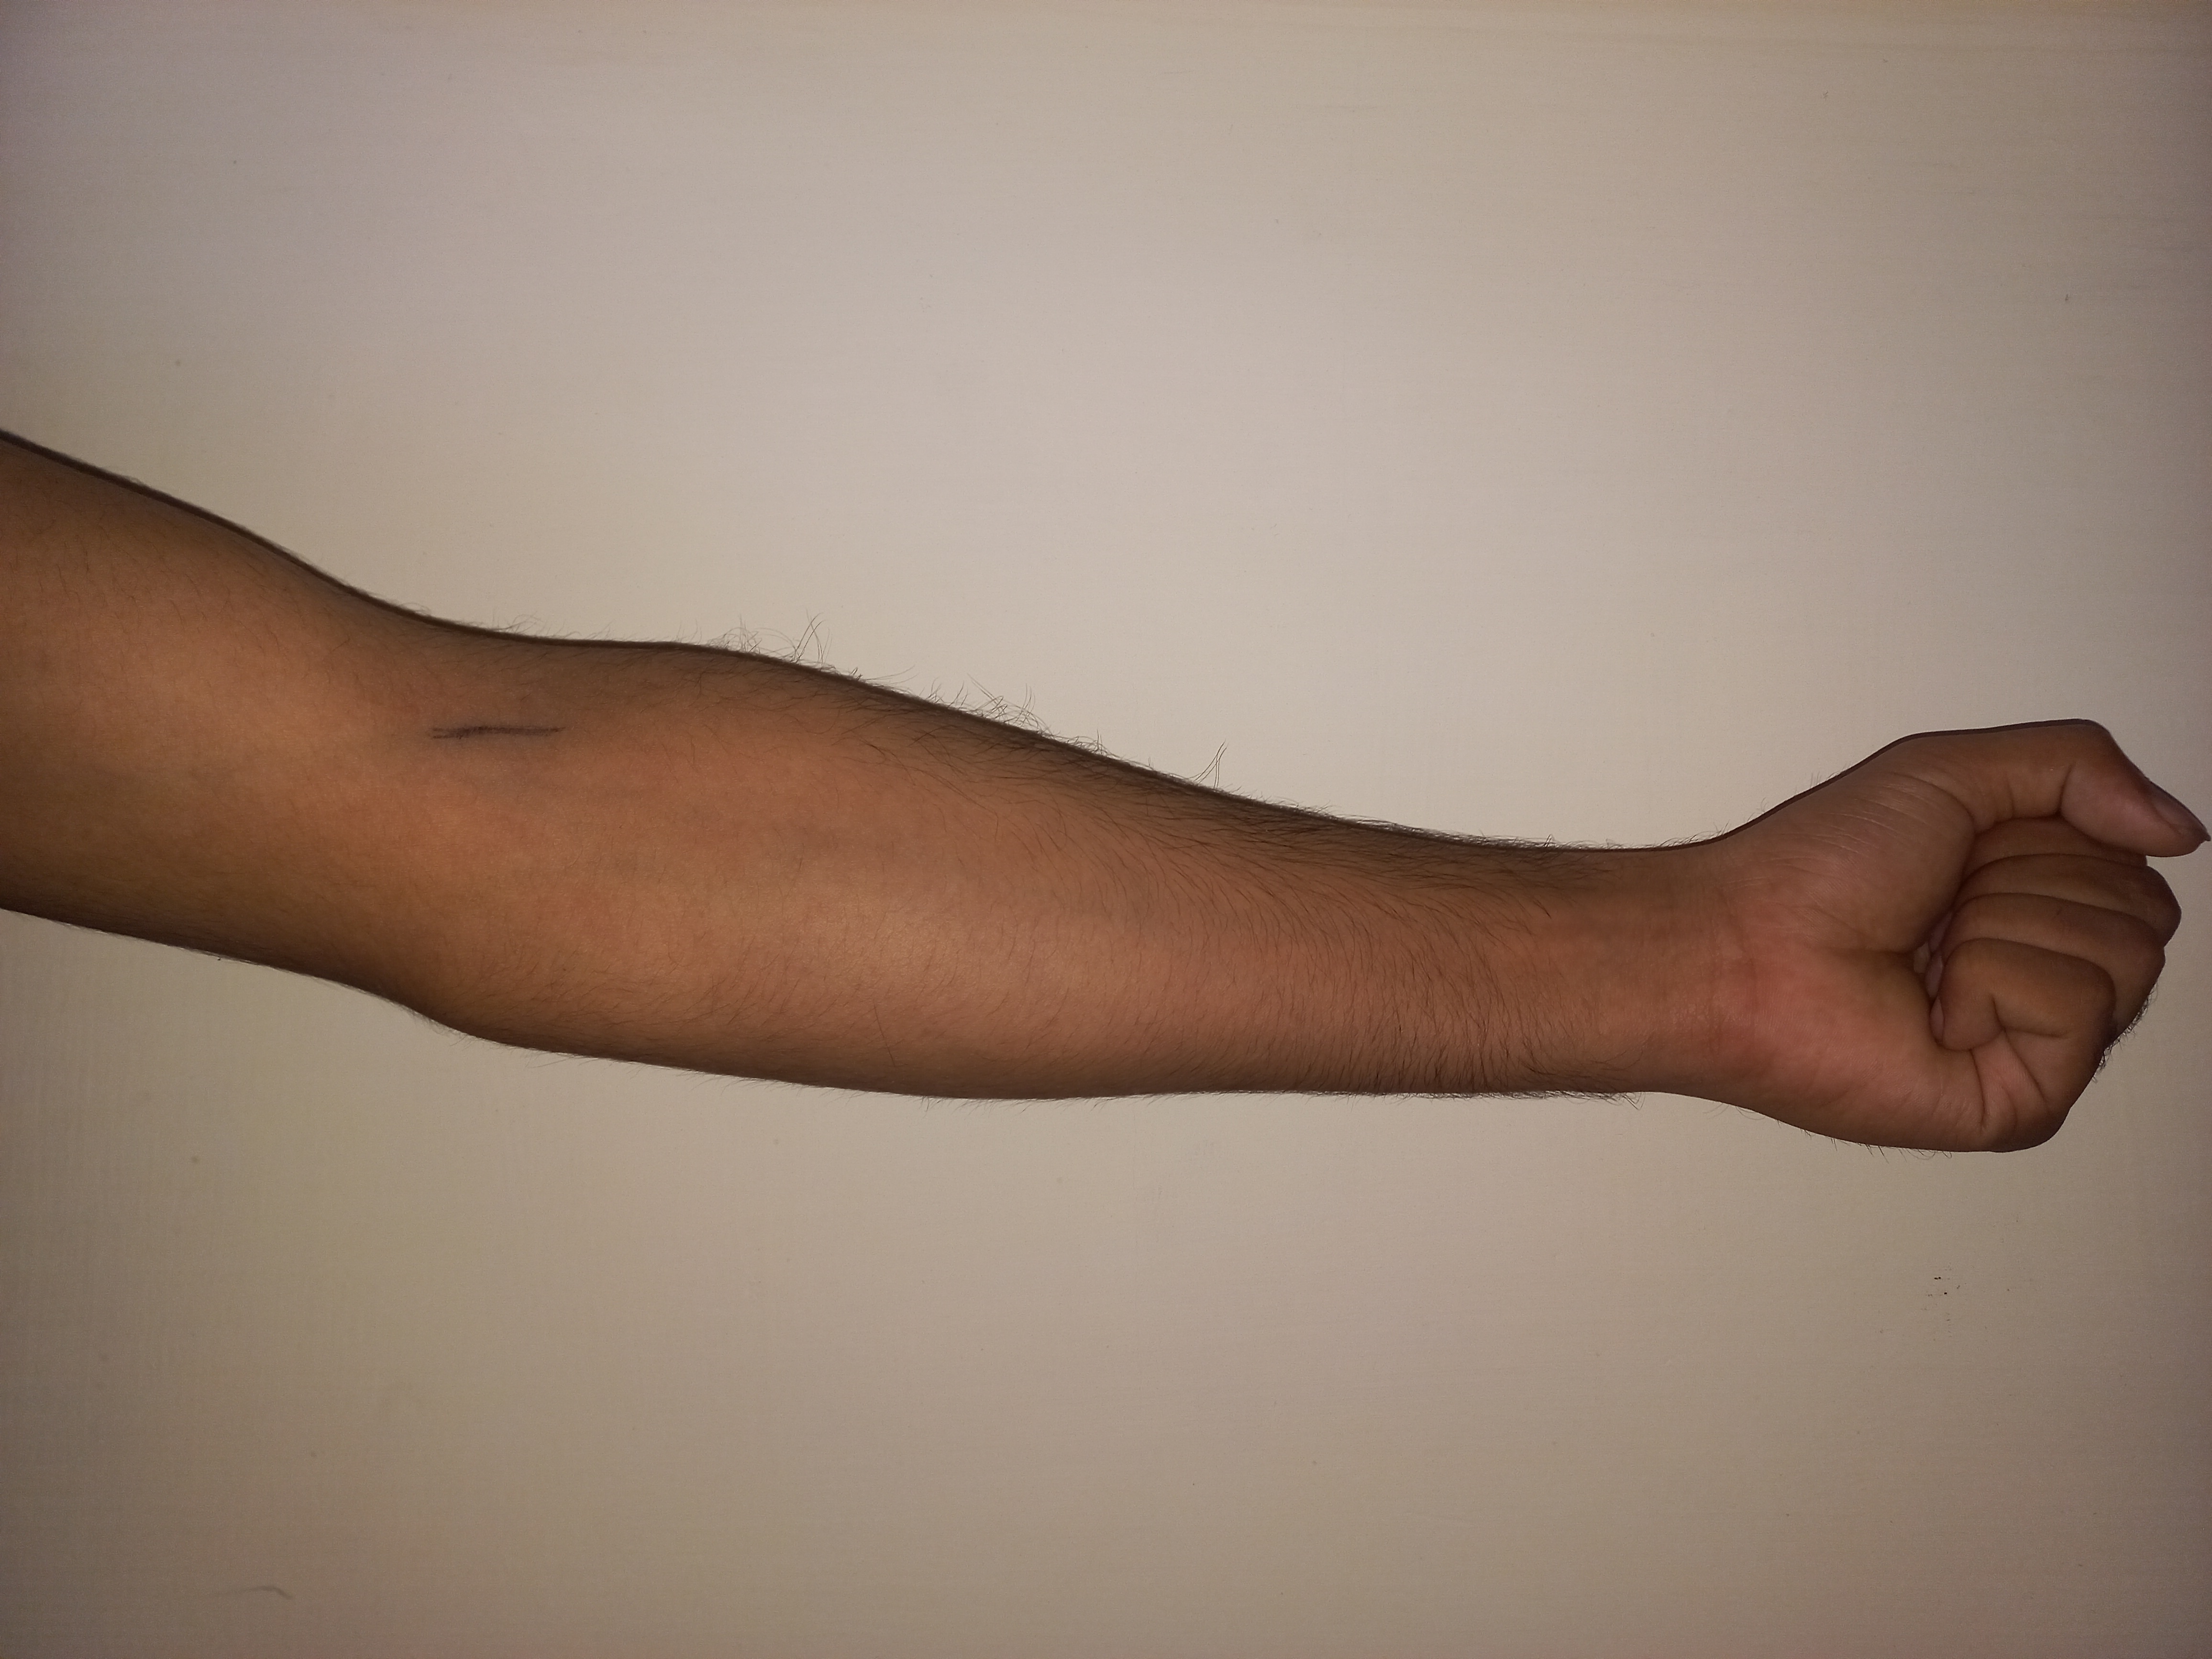vein: (418, 694, 582, 756)
